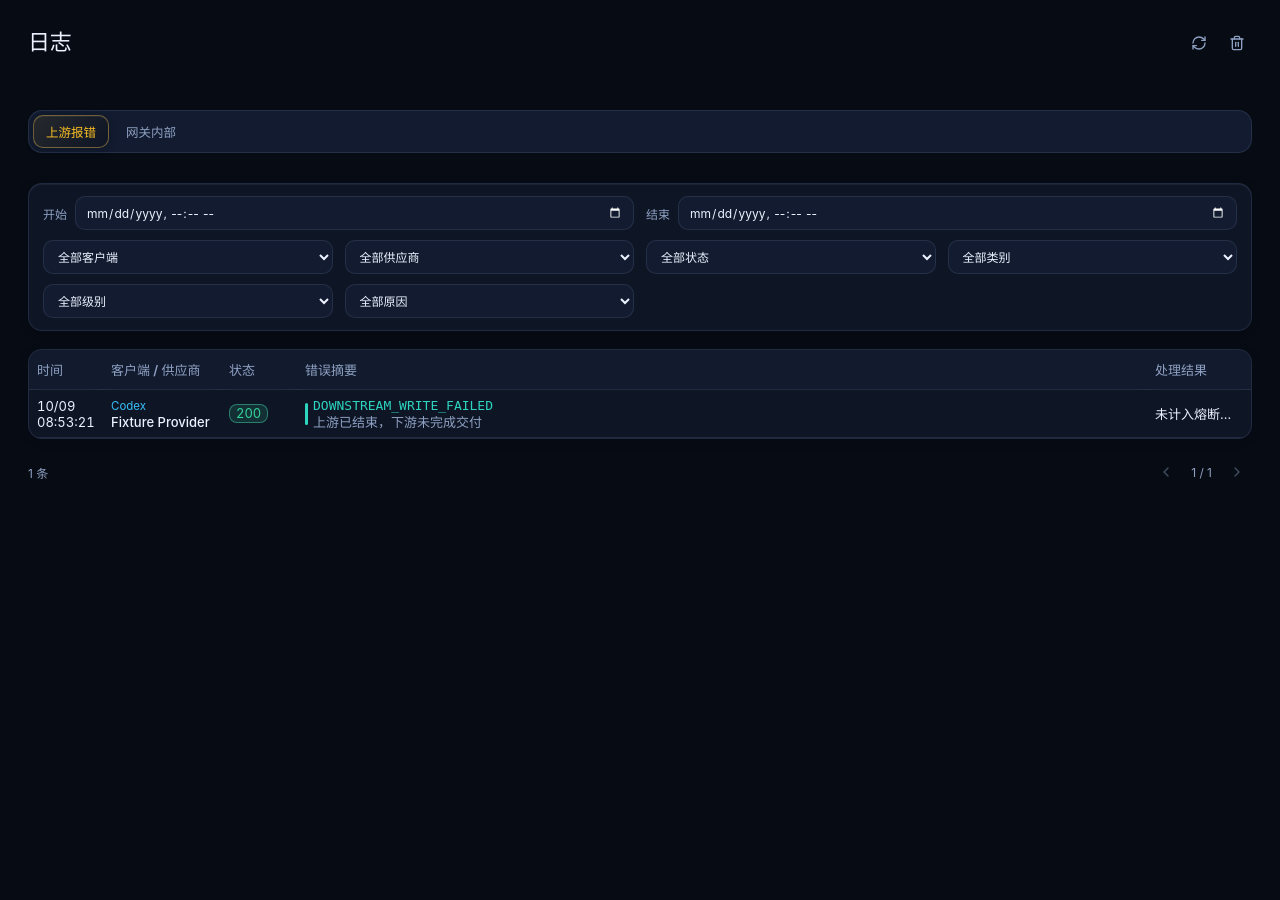
uses a distinct terminal-undelivered reason and de-duplicates equal code and reason
Click the button "DOWNSTREAM_WRITE_FAILED 上游已结束，下游未完成交付".
click(403, 405)  # box [305,398,1139,430]
(page scrolled)
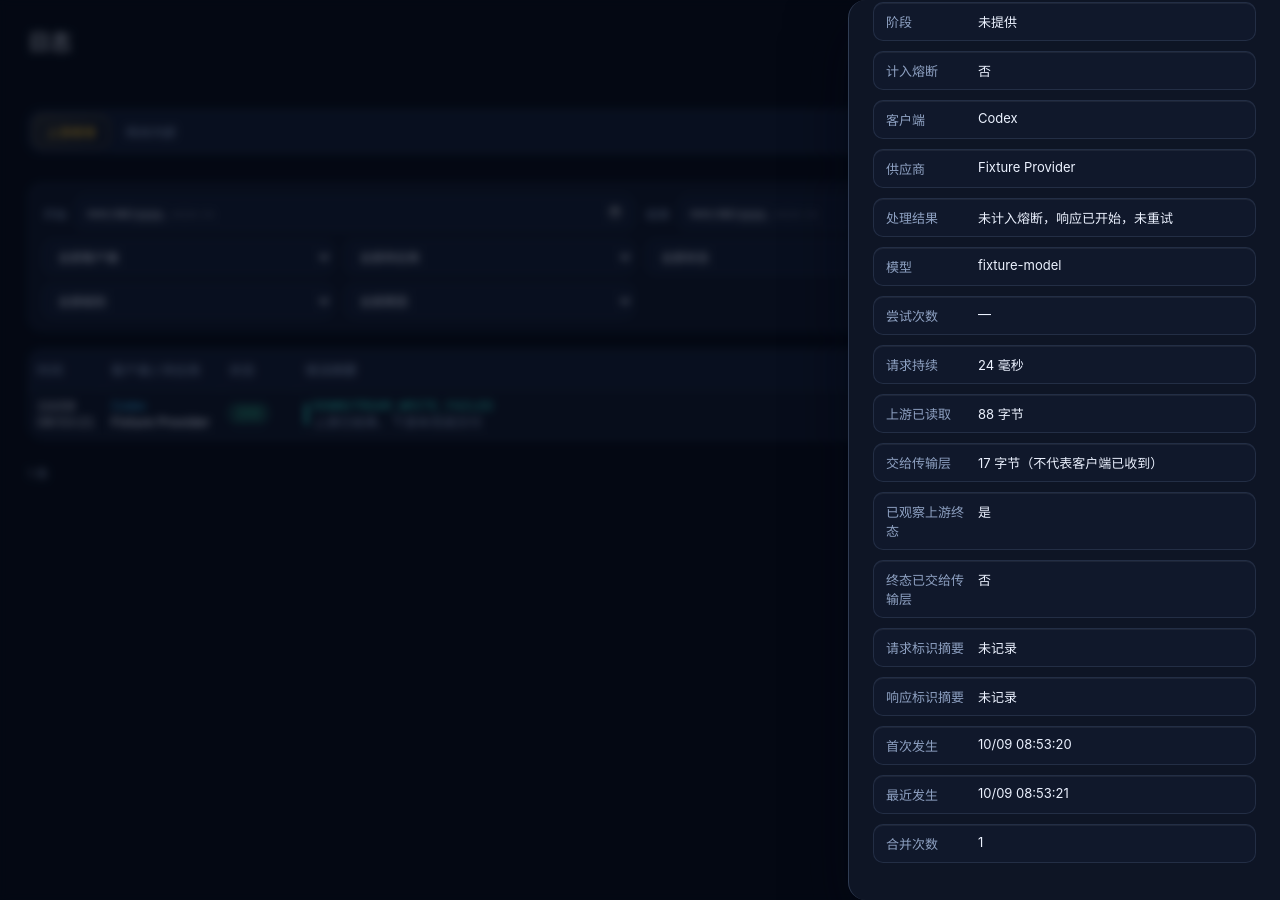
Now the text "是" is shown, box [978,504,991,520]
Now the text "否" next to "终态已交给传输层" is shown, box [978,572,991,588]
